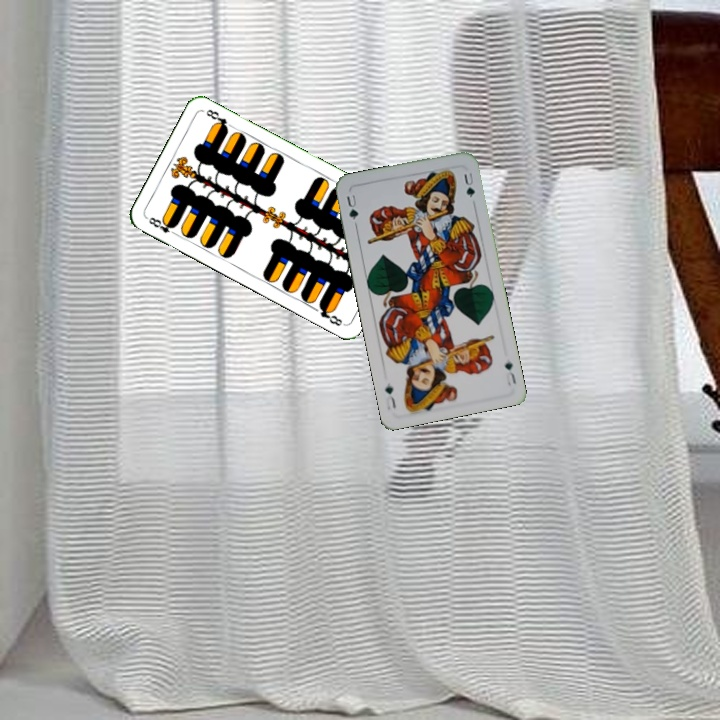E8: (143, 213, 180, 238)
GU: (342, 190, 361, 222), (500, 357, 519, 388)
